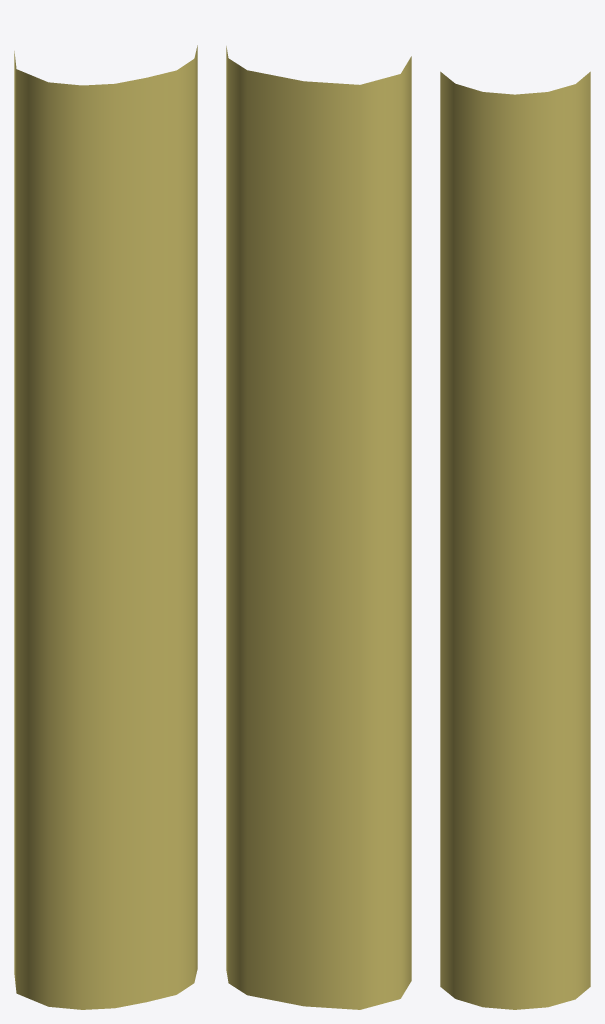
The model's file is intermediolateral-nucleus.glb.
3 renders of one model, left to right at view 1: azimuth 30°, elevation 25°; view 2: azimuth 150°, elevation 25°; view 3: azimuth 270°, elevation 25°, orthographic.
Visible parts, largest first — view 1: Intermediolateral nucleus; view 2: Intermediolateral nucleus; view 3: Intermediolateral nucleus.
Boxes of the visible parts, left/top/right/bottom form: Intermediolateral nucleus: left=14, top=45, right=197, bottom=1009; Intermediolateral nucleus: left=226, top=46, right=411, bottom=1009; Intermediolateral nucleus: left=440, top=71, right=590, bottom=1009.
Size of the model in its own units: 0.000944 by 0.005 by 0.000744.
